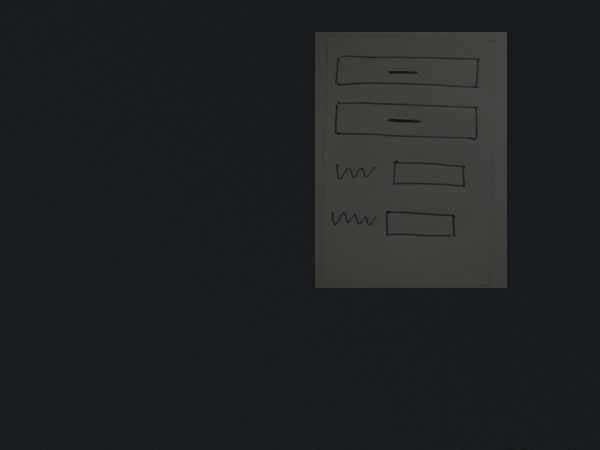button: (333, 98, 483, 141), (333, 52, 483, 92)
text: (332, 157, 378, 189), (330, 206, 378, 232)
text_input: (388, 155, 470, 195), (383, 204, 465, 244)
